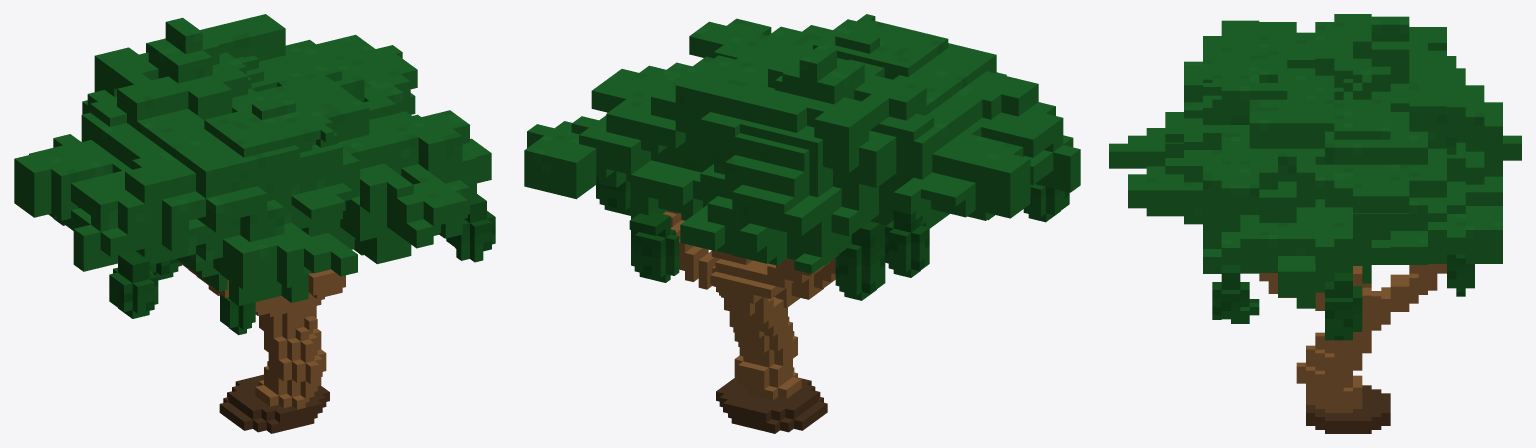
File: Arbórea Exótica - Graviola jovem.obj
The picture shows the model from 3 angles, left to right: view 1: azimuth 30°, elevation 25°; view 2: azimuth 150°, elevation 25°; view 3: azimuth 270°, elevation 25°; orthographic projection. The views are drawn at different scales.
Size of the model in its own units: 5 by 4.3 by 4.4.
1 material, 1 textured.
